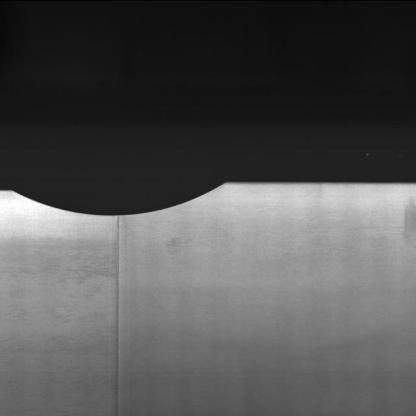crescent_gap: (1, 163, 236, 222)
welding_line: (109, 210, 137, 416)
